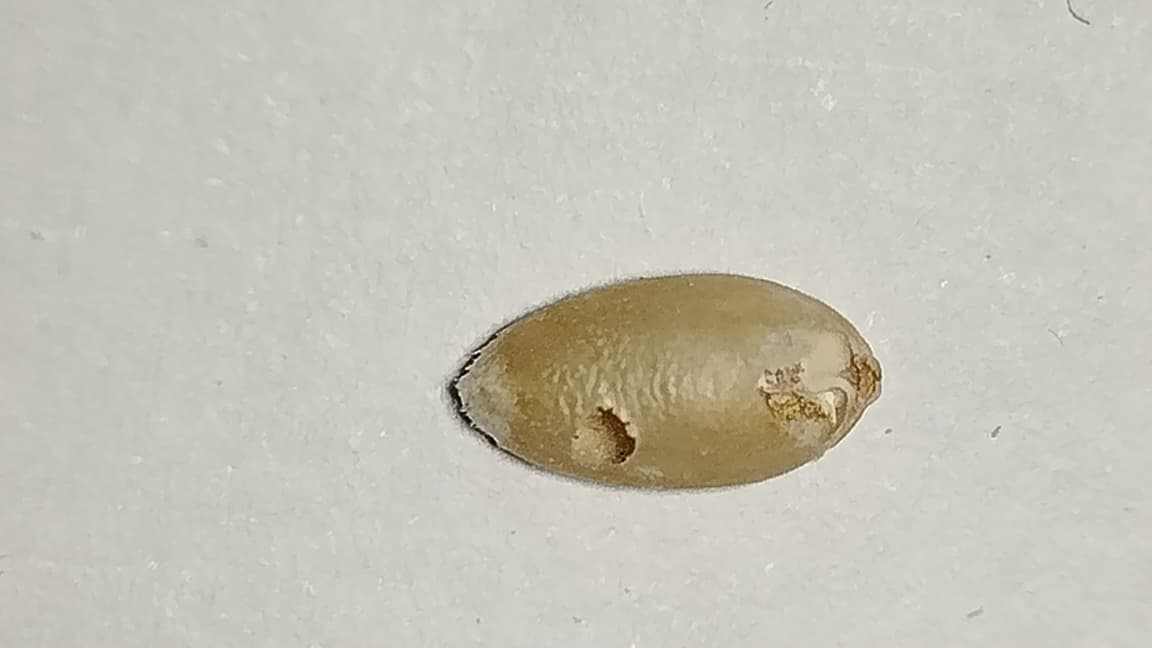damage: (451, 272, 881, 491)
insectdamage: (755, 304, 875, 455), (565, 382, 683, 498)
